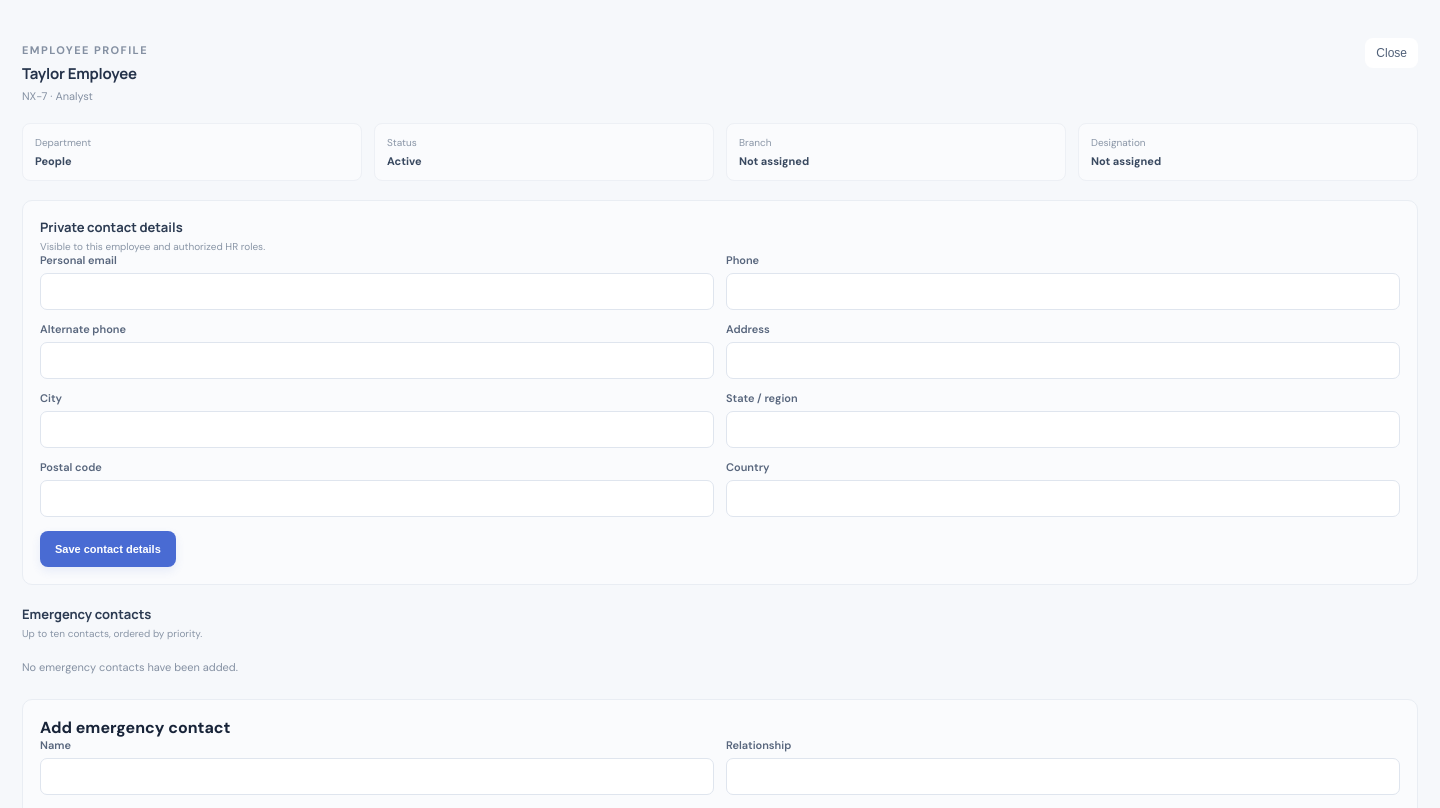
Test: employee private profile panel › loads and saves contact information through the employee self-service endpoint
The image size is (1440, 808).
Type "taylor@example.com" into the field labelled "Personal email" at point(377, 292), box left=40, top=273, right=714, bottom=310
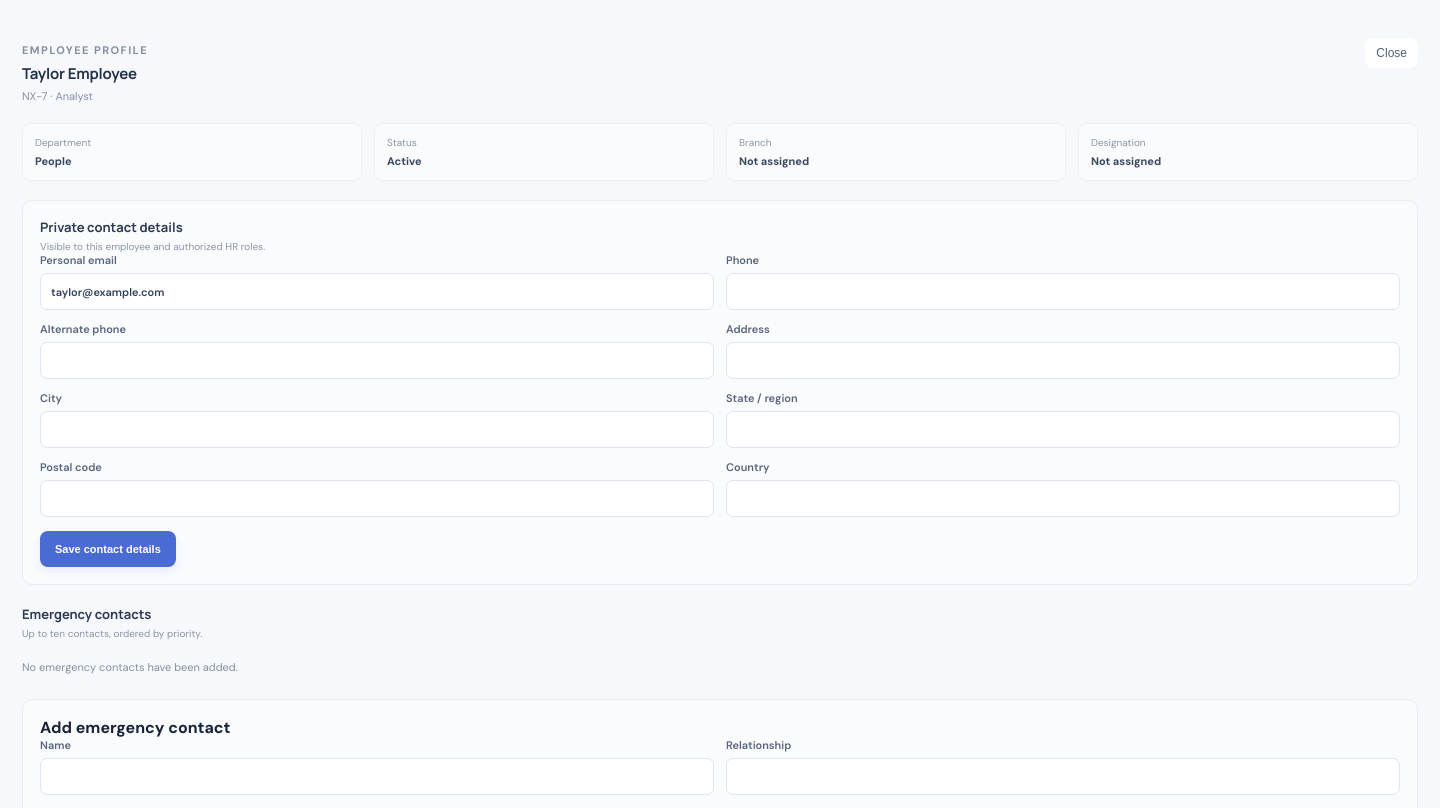
Type "+1 555 123 4567" into the field labelled "Phone" at point(1063, 292), box left=726, top=273, right=1400, bottom=310
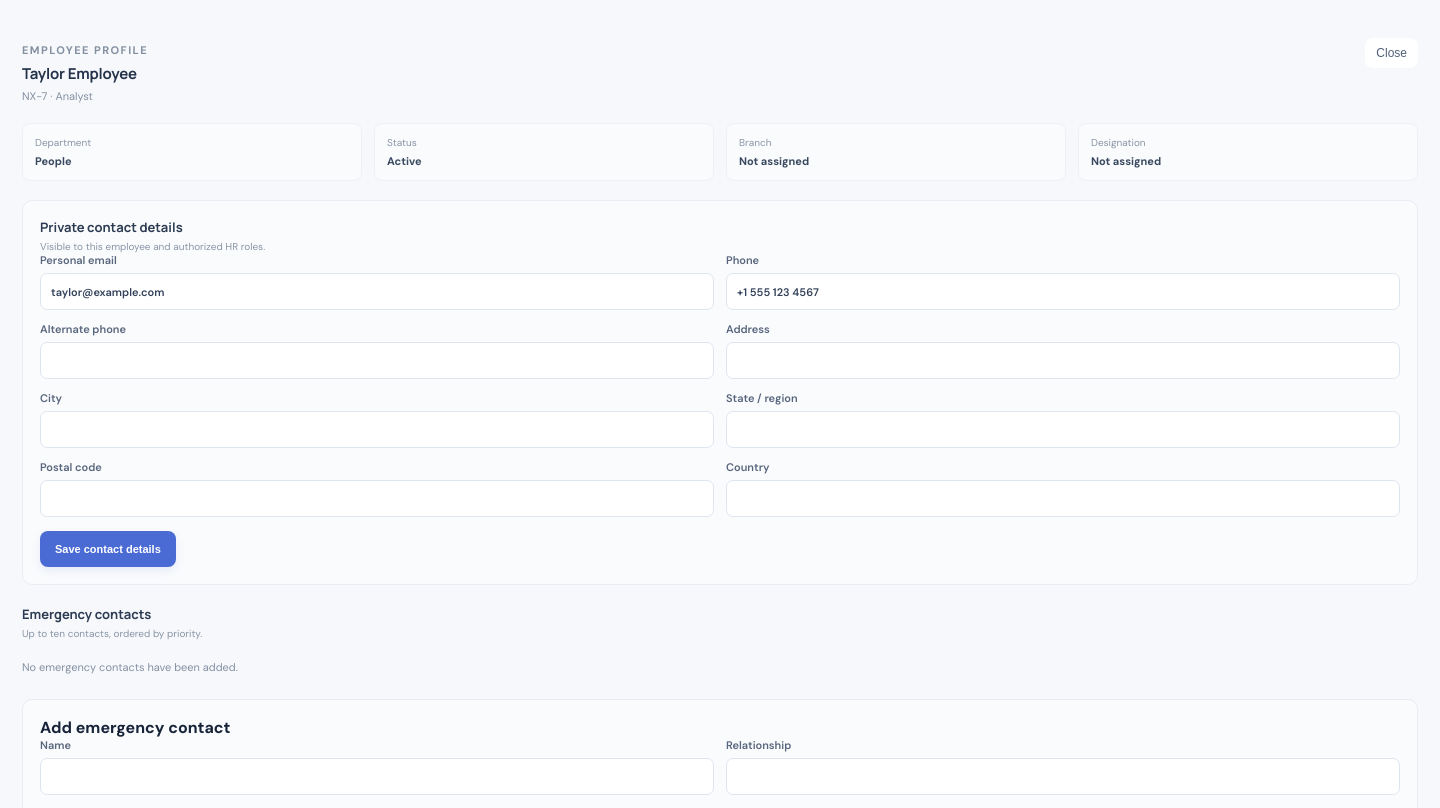
Click the button "Save contact details" at point(108, 549), box left=40, top=531, right=176, bottom=567
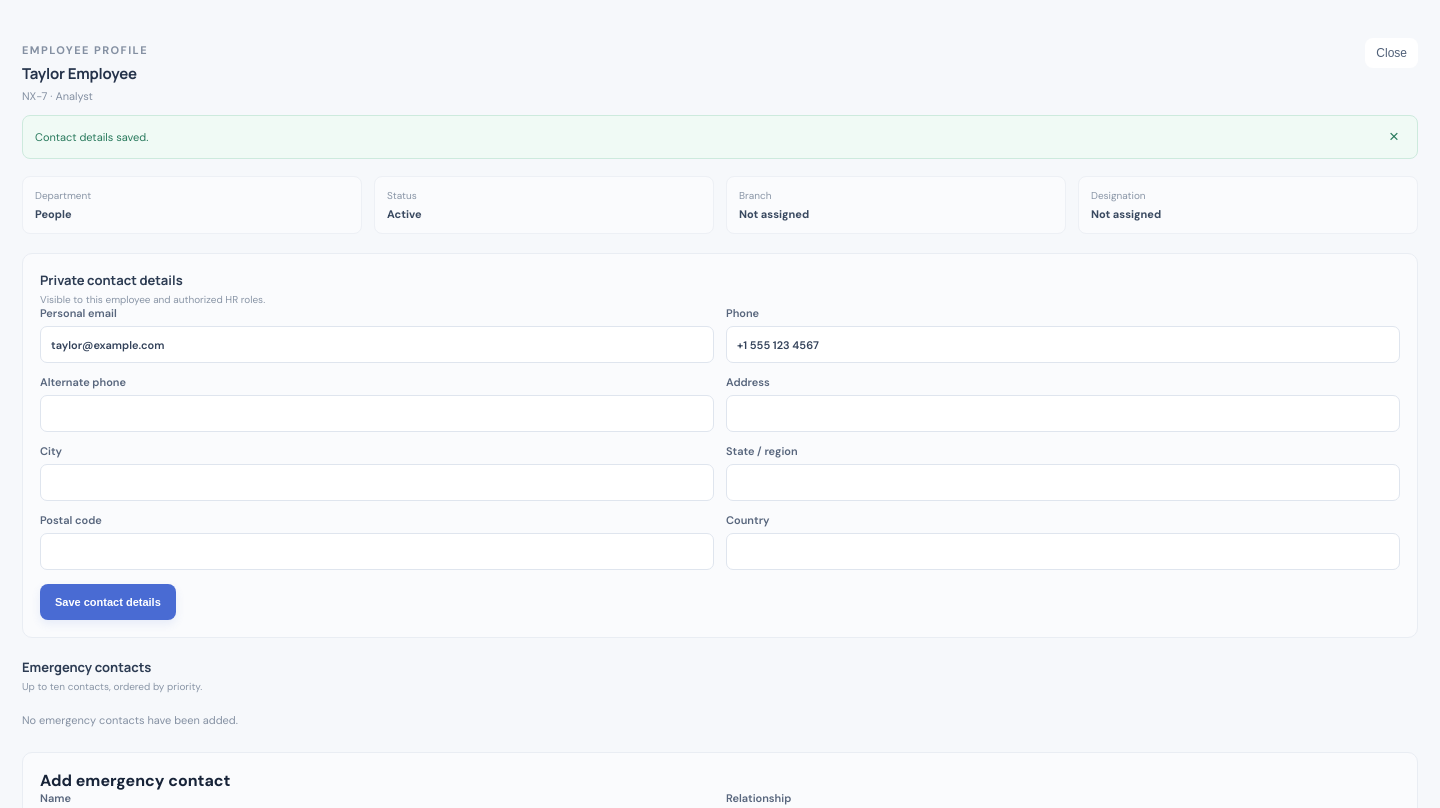
Expected: the text "Contact details saved." is shown, left=35, top=130, right=148, bottom=144
